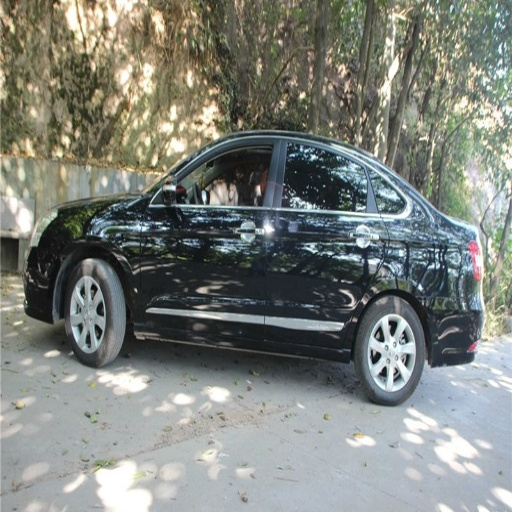back_left_door: (265, 137, 388, 347)
